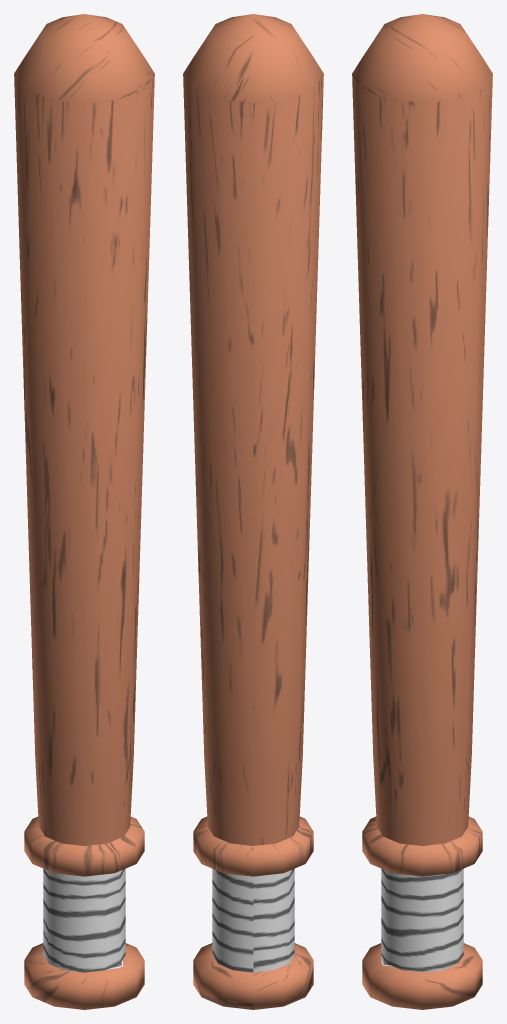
The model's file is baseballbatweapon.fbx.
The picture shows the model from 3 angles, left to right: view 1: azimuth 30°, elevation 25°; view 2: azimuth 150°, elevation 25°; view 3: azimuth 270°, elevation 25°; orthographic projection.
Parts seen in each view (by area): view 1: BaseballBatWeapon; view 2: BaseballBatWeapon; view 3: BaseballBatWeapon.
Boxes of the visible parts, x1=… form: BaseballBatWeapon: x1=14, y1=14, x2=154, y2=1009; BaseballBatWeapon: x1=183, y1=14, x2=323, y2=1009; BaseballBatWeapon: x1=352, y1=14, x2=492, y2=1009.
Size of the model in its own units: 48.51 by 369 by 48.51.
1 material, 1 textured.
